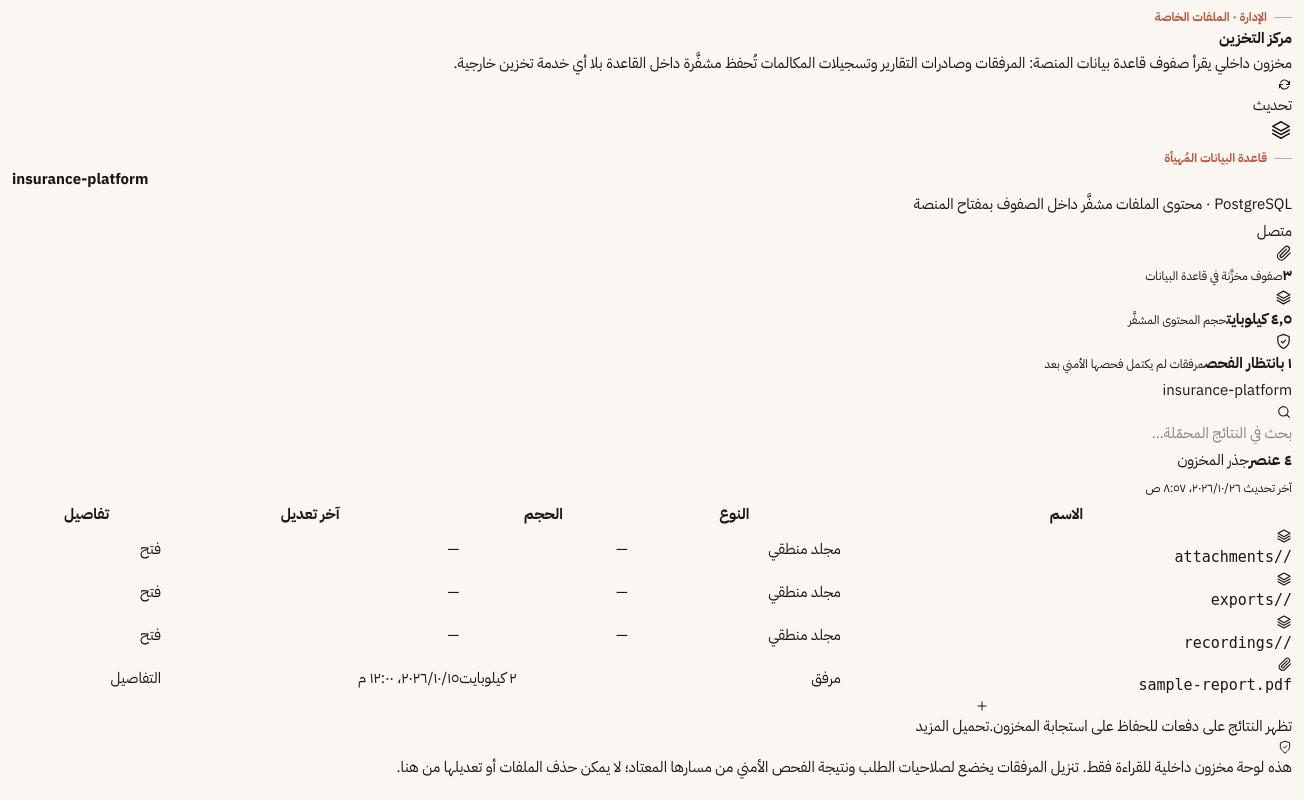
Test case: StoragePage › loads a bounded continuation page without replacing earlier rows
Check: the text "sample-report.pdf" is shown, box 1138,676 -> 1292,694
Click the button "تحميل المزيد".
click(952, 720)  # box 916,699 -> 989,740
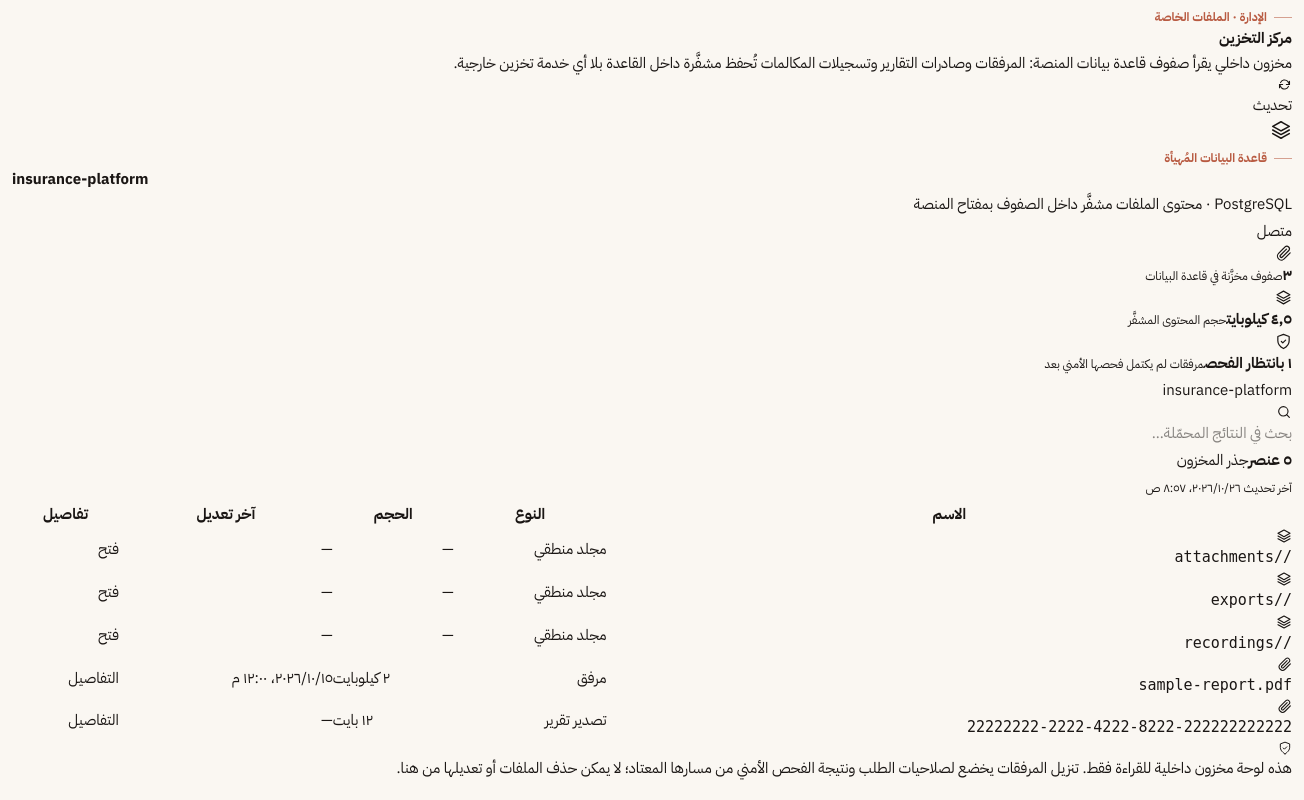
Check: the text "sample-report.pdf" is shown, box 1138,676 -> 1292,694
Check: the text "22222222-2222-4222-8222-222222222222" is shown, box 967,718 -> 1292,736
